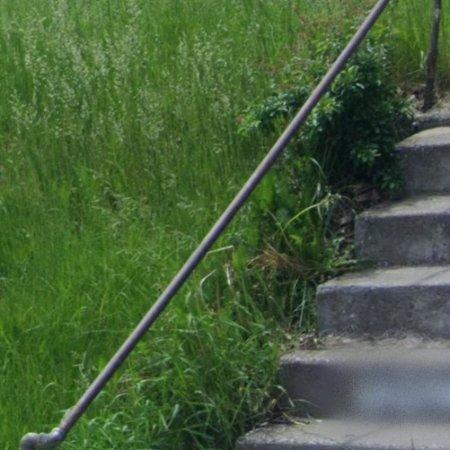stairs: (238, 126, 450, 450)
